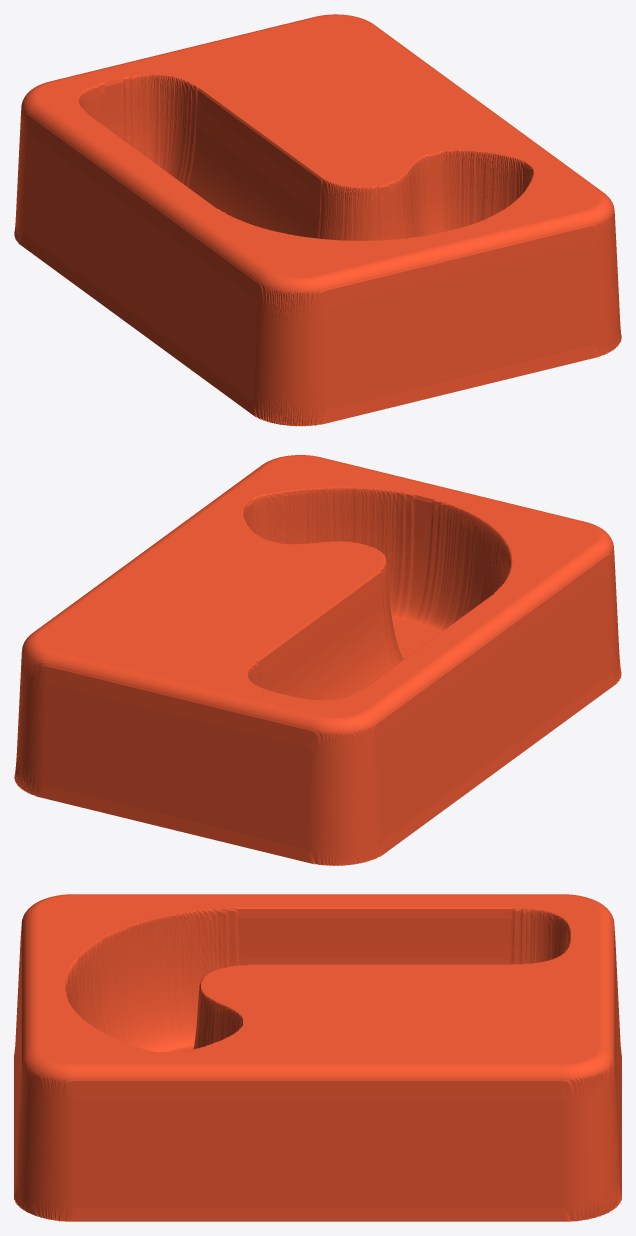
File: mold.glb
3 renders of one model, top to bottom at view 1: azimuth 30°, elevation 25°; view 2: azimuth 150°, elevation 25°; view 3: azimuth 270°, elevation 25°, orthographic. The views are drawn at different scales.
Visible parts, largest first — view 1: geometry_0; view 2: geometry_0; view 3: geometry_0.
Part boxes in pixels (x1,y1,x2,y2): geometry_0: (14,14,621,426); geometry_0: (14,455,621,865); geometry_0: (14,894,621,1221).
Size of the model in its own units: 0.0676 by 0.0248 by 0.0924.
